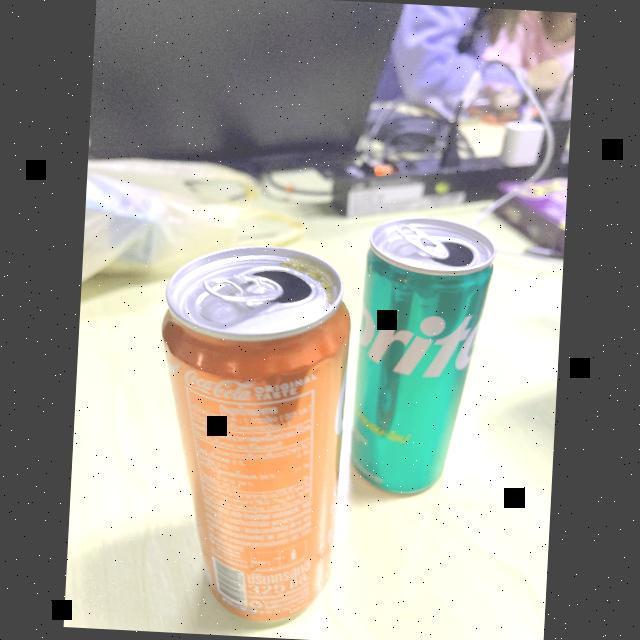can: (148, 221, 375, 624), (336, 203, 509, 512)
